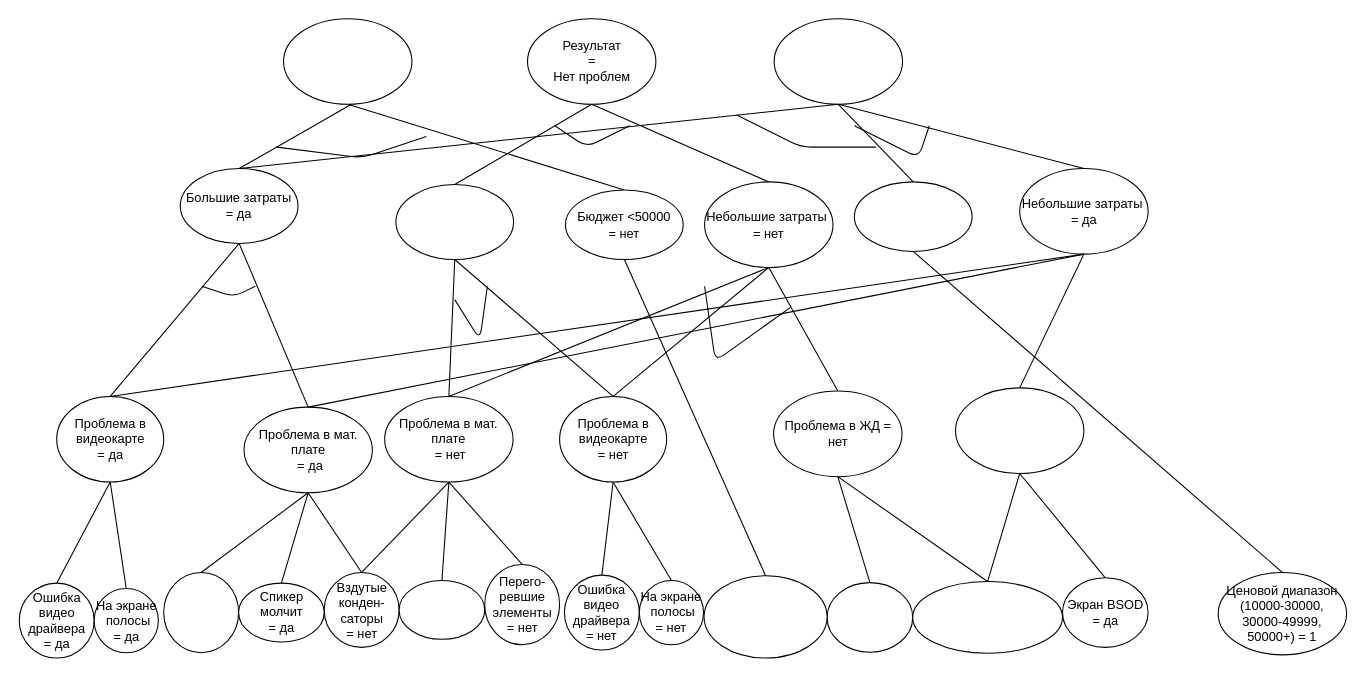
Image size: 1365x677. Some labels were removed from this diagram. The shapes that lost their labels are listed below. From the top down, each one's box as (x1, y1, x2, y2) in pixels, then its label:
(282, 18, 412, 104): Результат = Купить новый ПК
(773, 18, 903, 104): Результат = Заменить комплектующие
(395, 184, 514, 259): Большие затраты = нет
(853, 181, 972, 251): Бюджет <50000 = да
(954, 387, 1084, 473): Проблема в ЖД = да
(163, 571, 239, 653): Перего- ревшие элементы = да
(398, 579, 485, 639): Спикер молчит = нет
(703, 575, 827, 658): Ценовой диапазон (10000-30000, 30000-49999, 50000+) = 3
(826, 582, 913, 652): Экран BSOD = нет
(912, 580, 1063, 653): Снижение производи тельности = нет
